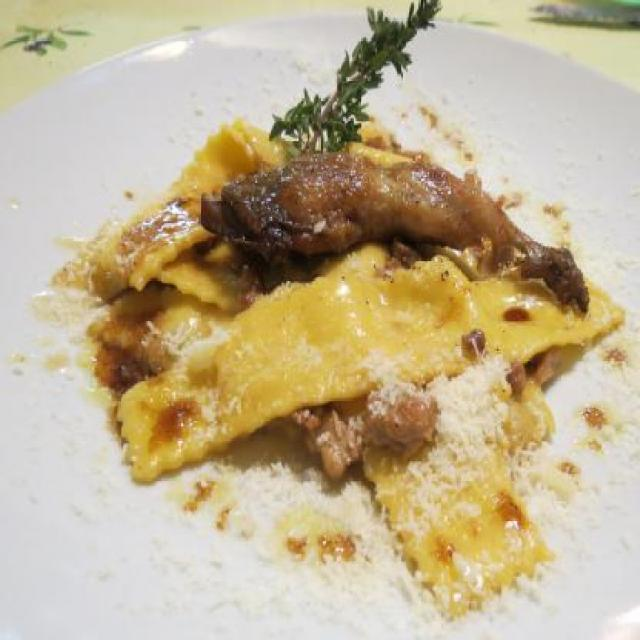Pasta al ragu: (92, 69, 626, 576)
